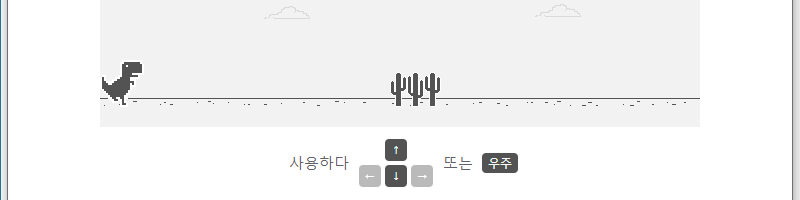dinosaur: (100, 60, 144, 106)
obstacle: (386, 70, 443, 107)
